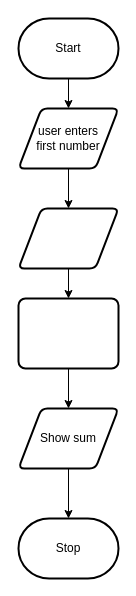
The diagram is 136 pixels wide and 596 high, and some of its shapes have lost their labels. Here are the shapes that lost their labels. From the top down, the centre of each, then its label:
point 68,238: user enters second number
point 68,333: sum = number_one + number_two
